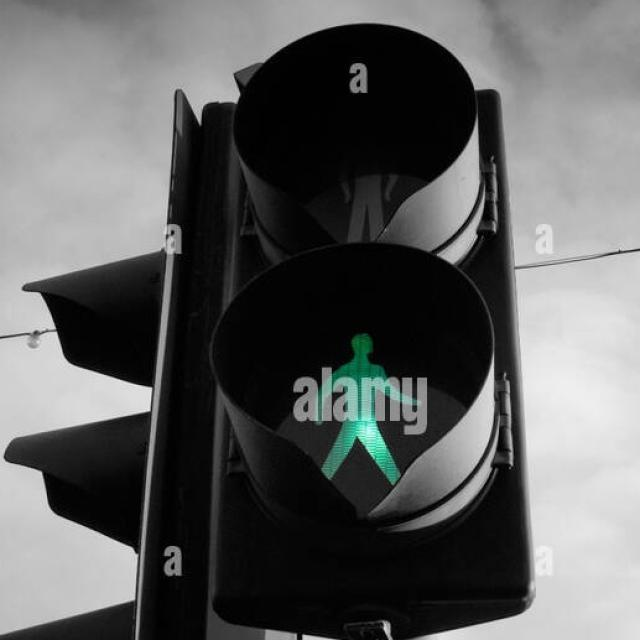geen-crossing: (300, 298, 445, 508)
